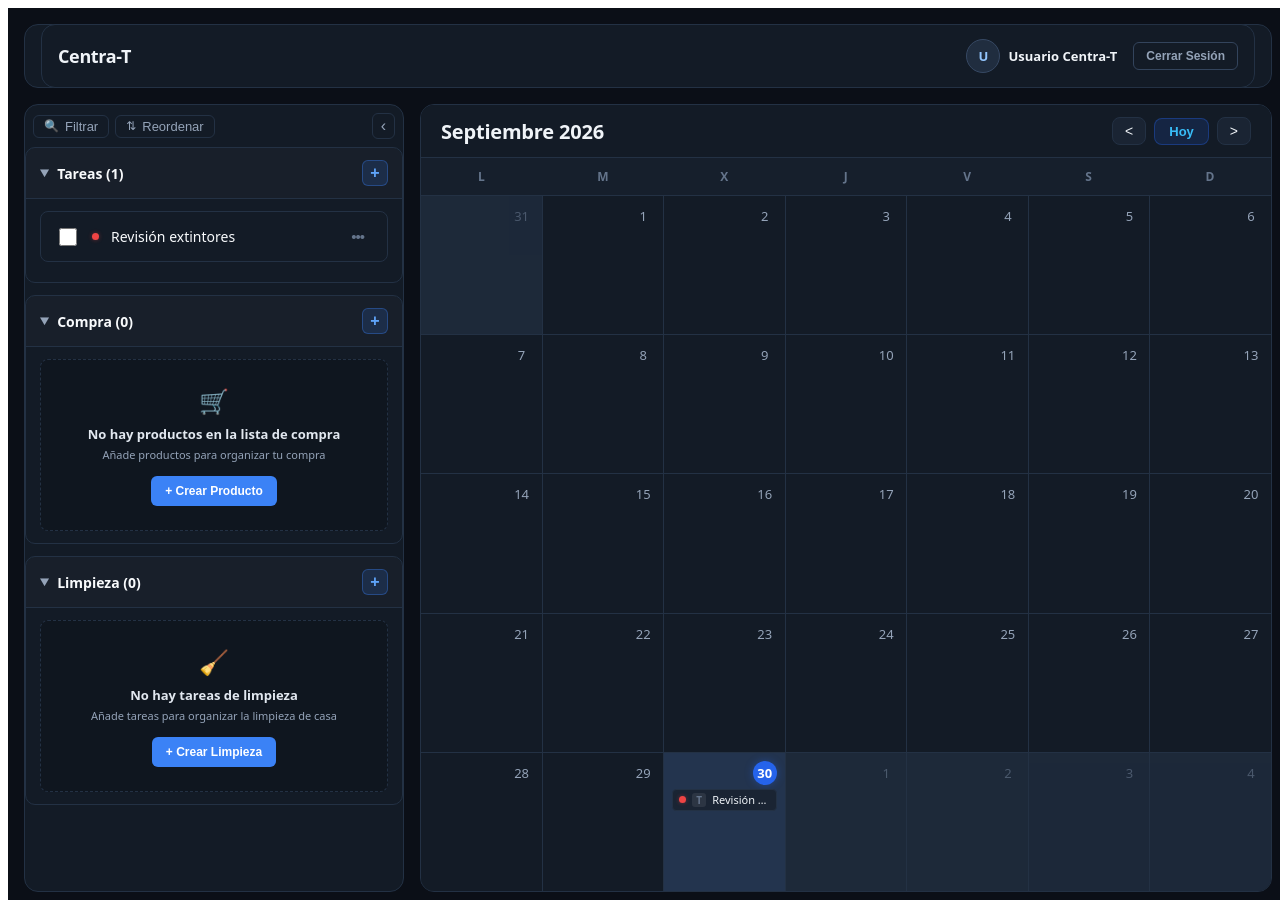
Scenario: App Root Integration - Filtrado Reactivo y Reordenación en Caliente (RV-A06) › Desasignación por Clic Derecho y Retorno al Hub (Caso Forense VV-007) › [VV-007]: Clic derecho en una pastilla del calendario abre el menú contextual en la posición del cursor
Right-click the button with test id "calendar-pill-task-unschedule-1" at (724, 800), box top-left (672, 789), bottom-right (777, 811)
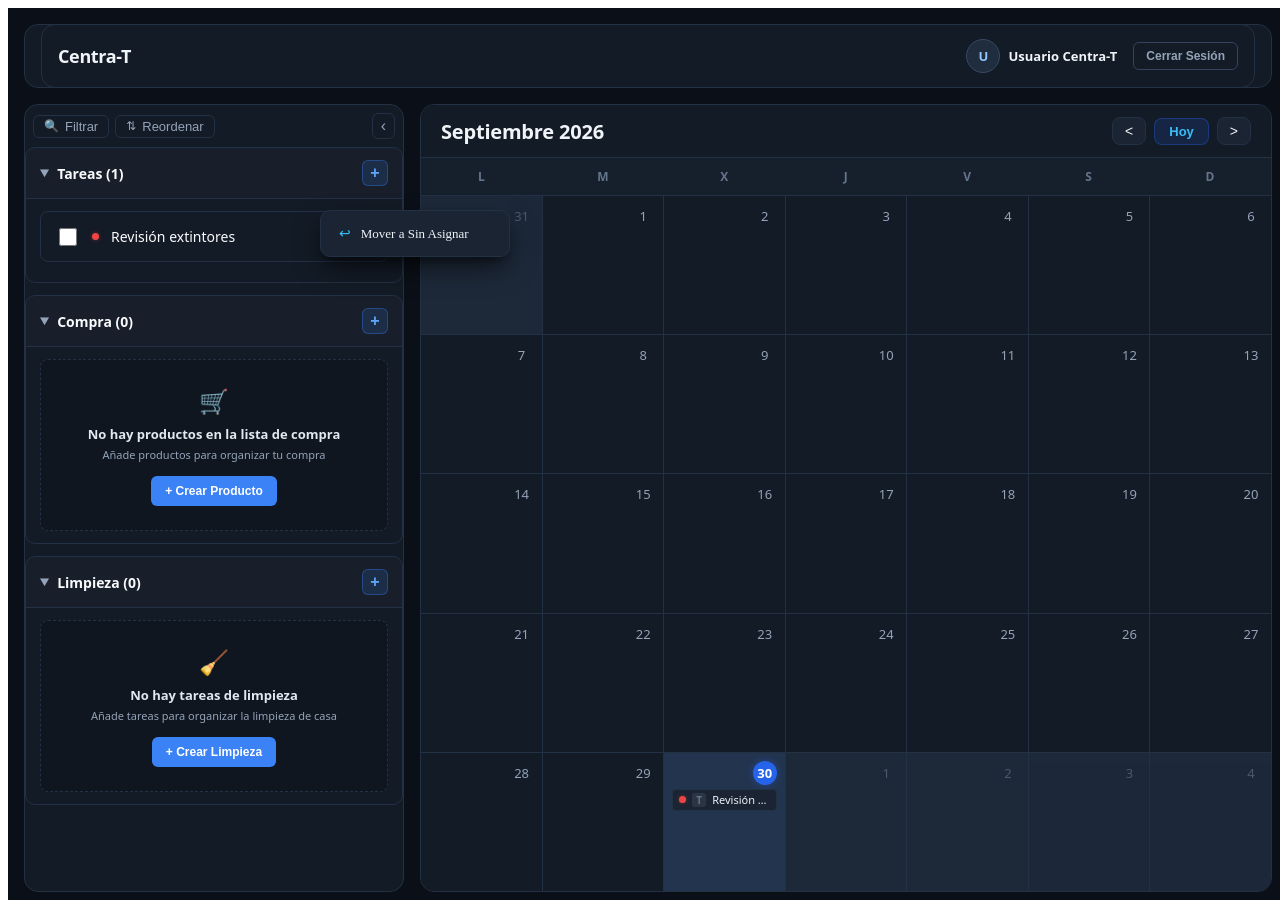
Check: the menu with test id "calendar-item-context-menu" is shown, box top-left (320, 210), bottom-right (510, 257)
Check: the menu item "↩ Mover a Sin Asignar" is shown, box top-left (327, 217), bottom-right (503, 250)
